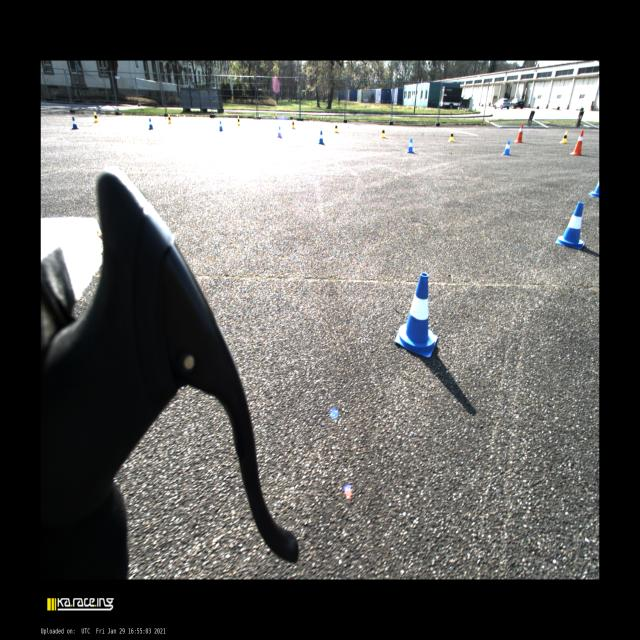blue_cone: (394, 272, 438, 358), (555, 202, 585, 251), (588, 179, 599, 198), (502, 139, 511, 155), (407, 137, 415, 154), (71, 116, 79, 130), (318, 130, 324, 145), (148, 118, 154, 130), (278, 125, 282, 139), (219, 120, 223, 132)
large_orange_cone: (569, 129, 585, 156), (515, 122, 524, 143)
yellow_cone: (559, 130, 569, 144), (93, 111, 99, 123), (449, 130, 455, 142), (381, 127, 386, 138), (292, 119, 296, 130), (168, 114, 172, 124), (334, 123, 338, 133), (237, 116, 240, 126)
